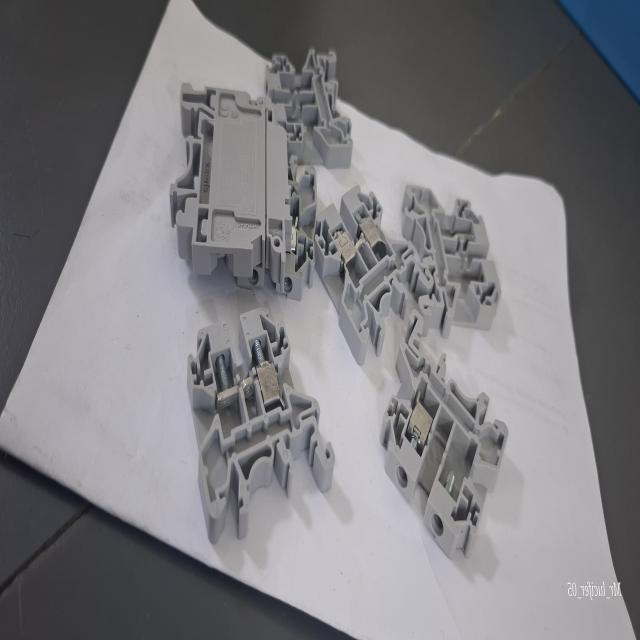Pass: (312, 183, 432, 346)
Reject: (183, 305, 334, 543), (379, 308, 509, 556), (408, 190, 498, 320), (264, 48, 352, 158)
